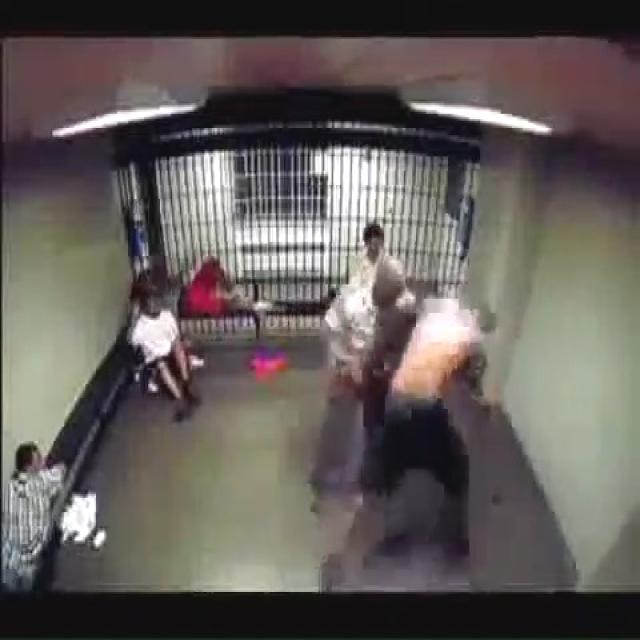fight: (314, 243, 517, 582)
